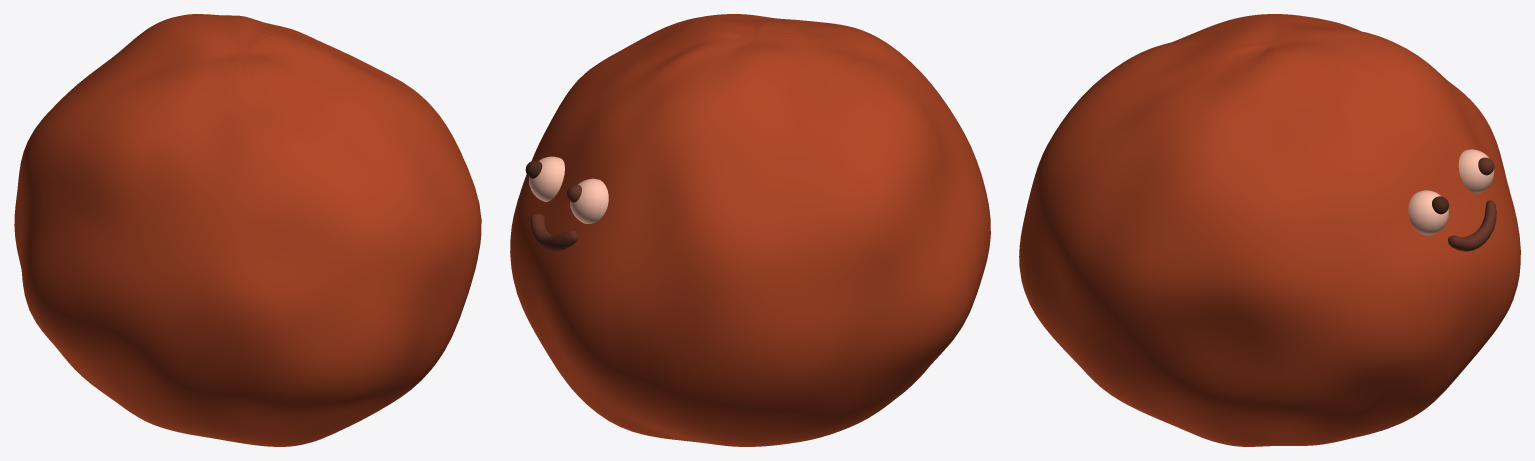
The model's file is PlayerModel.glb.
The picture shows the model from 3 angles, left to right: view 1: azimuth 30°, elevation 25°; view 2: azimuth 150°, elevation 25°; view 3: azimuth 270°, elevation 25°; orthographic projection. The views are drawn at different scales.
Visible parts, largest first — view 1: Sphere; view 2: Sphere, BézierCurve.001; view 3: Sphere, BézierCurve.001.
Boxes of the visible parts, box(x1,y1,x2,y2) form: Sphere: box(14, 14, 481, 446); Sphere: box(510, 14, 990, 446); BézierCurve.001: box(525, 156, 608, 251); Sphere: box(1019, 14, 1520, 446); BézierCurve.001: box(1408, 149, 1496, 251).
Size of the model in its own units: 2.06 by 1.83 by 2.21.
